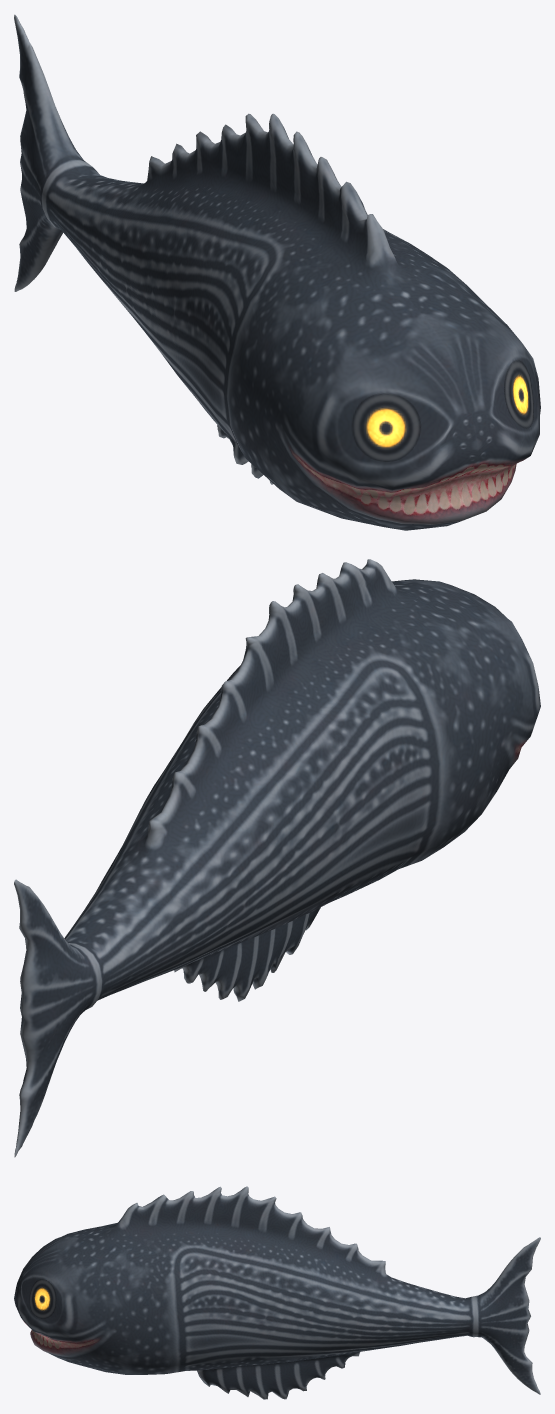
File: CreatureFish01.FBX
3 views of the same model, one above another, from view 1: azimuth 30°, elevation 25°; view 2: azimuth 150°, elevation 25°; view 3: azimuth 270°, elevation 25° (orthographic). The views are drawn at different scales.
Parts seen in each view (by area): view 1: CreatureFish01; view 2: CreatureFish01; view 3: CreatureFish01.
Part boxes in pixels (x1=…): CreatureFish01: x1=14, y1=14, x2=540, y2=530; CreatureFish01: x1=14, y1=559, x2=540, y2=1157; CreatureFish01: x1=14, y1=1186, x2=540, y2=1399.
Bounding box in the file's own units: 0.1705 × 0.2649 × 0.5929.
